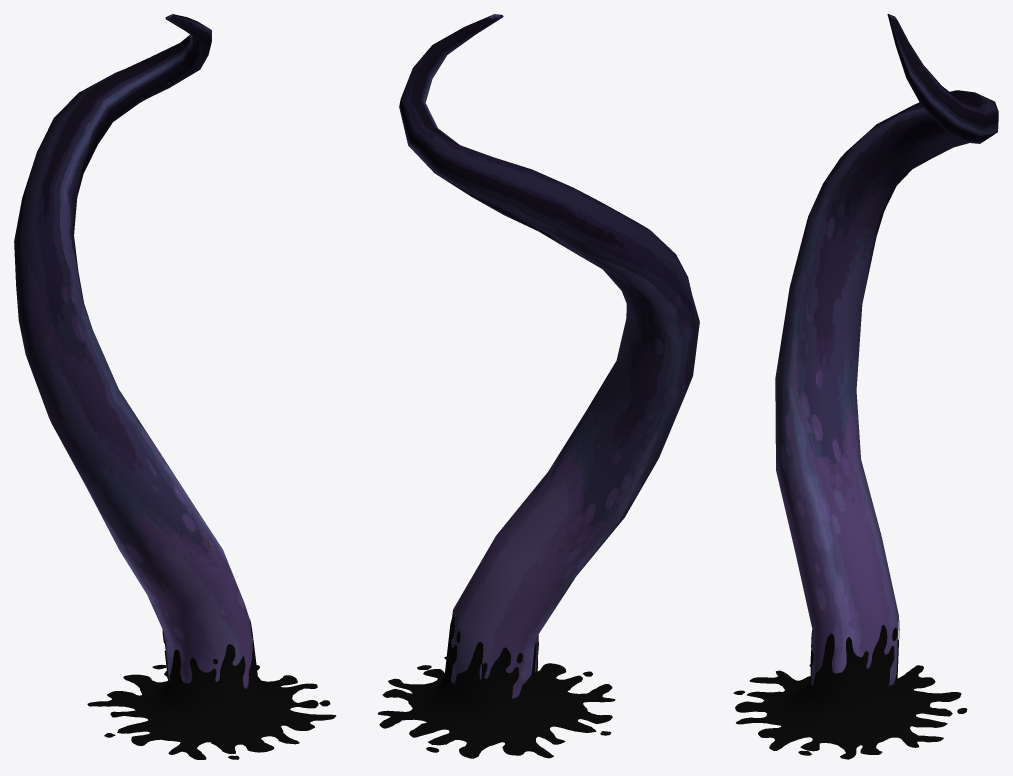
File: netherlimb_beab537f.glb
3 views of the same model, side by side, from view 1: azimuth 30°, elevation 25°; view 2: azimuth 150°, elevation 25°; view 3: azimuth 270°, elevation 25° (orthographic). The views are drawn at different scales.
Size of the model in its own units: 3.44 by 7.62 by 2.73.
2 materials, 2 textured.
